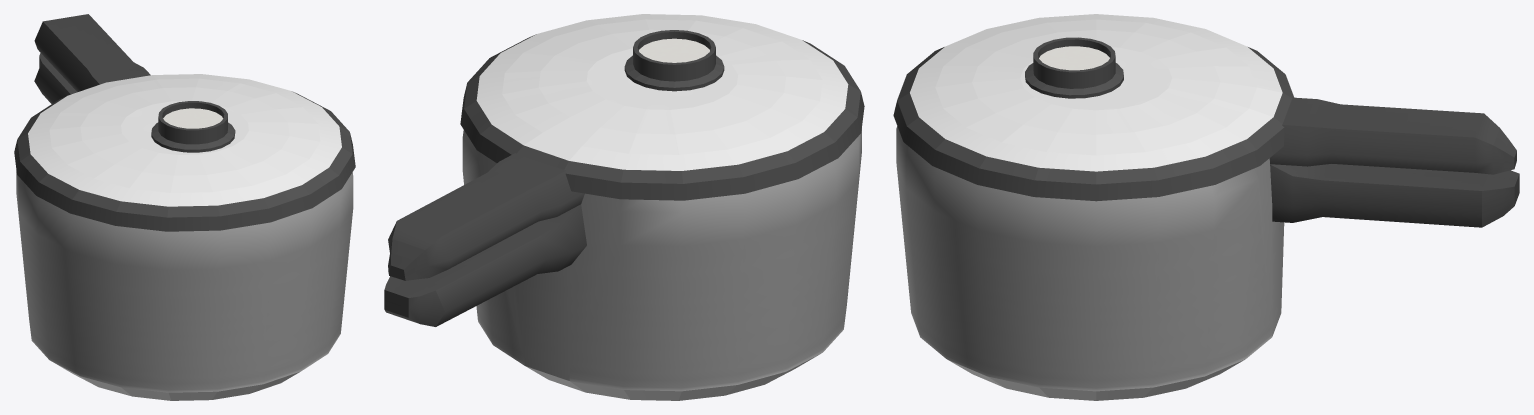
The model's file is SM_PressureCooker.fbx.
3 renders of one model, left to right at view 1: azimuth 30°, elevation 25°; view 2: azimuth 150°, elevation 25°; view 3: azimuth 270°, elevation 25°, orthographic. The views are drawn at different scales.
Visible parts, largest first — view 1: SM_PressureCooker; view 2: SM_PressureCooker; view 3: SM_PressureCooker.
Boxes of the visible parts, left/top/right/bottom form: SM_PressureCooker: left=14, top=14, right=355, bottom=400; SM_PressureCooker: left=384, top=14, right=864, bottom=400; SM_PressureCooker: left=893, top=14, right=1519, bottom=400.
Size of the model in its own units: 43.83 by 33.5 by 67.65.
